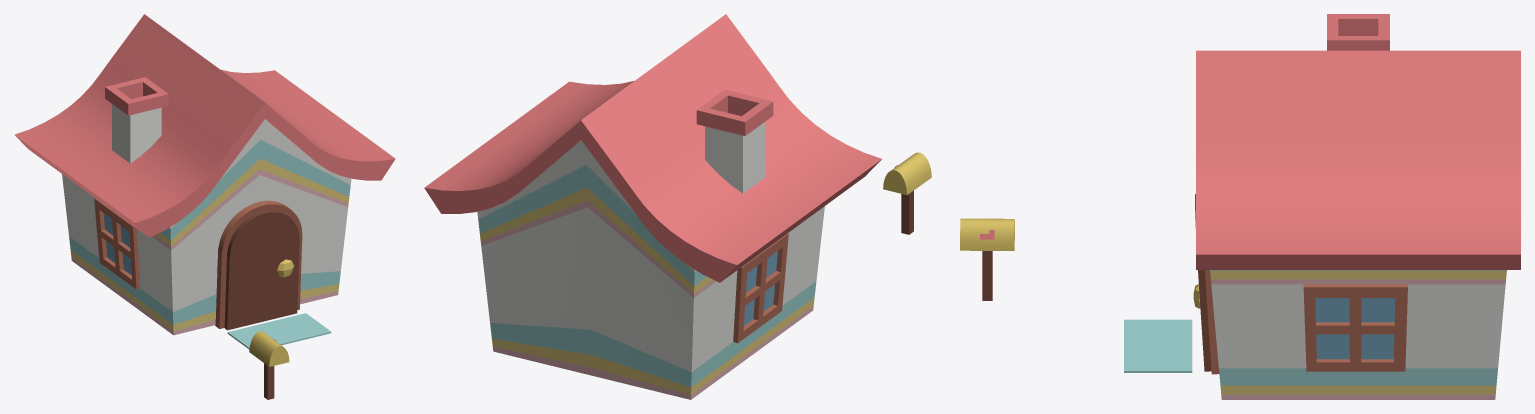
The model's file is MAILBOXHOUSE.fbx.
3 views of the same model, side by side, from view 1: azimuth 30°, elevation 25°; view 2: azimuth 150°, elevation 25°; view 3: azimuth 270°, elevation 25° (orthographic). The views are drawn at different scales.
Parts seen in each view (by area): view 1: house:pCube4, house:pCube5, house:polySurface3, house:pCube6, house:polySurface2, house:pCube7, house:polySurface4, house:polySurface5, house:pCylinder1, house:pCube8; view 2: house:pCube5, house:pCube4, house:pCube6, house:pCylinder1, house:pCube8; view 3: house:pCube4, house:pCube5, house:pCube7, house:pCube6, house:pCylinder1, house:polySurface3, house:polySurface5, house:pCube8.
Part boxes in pixels (x1=…): house:pCube4: x1=14, y1=14, x2=395, y2=237; house:pCube5: x1=62, y1=119, x2=351, y2=335; house:polySurface3: x1=224, y1=238, x2=299, y2=330; house:pCube6: x1=105, y1=77, x2=168, y2=163; house:polySurface2: x1=227, y1=210, x2=299, y2=255; house:pCube7: x1=227, y1=313, x2=331, y2=349; house:polySurface4: x1=218, y1=200, x2=301, y2=252; house:polySurface5: x1=215, y1=233, x2=302, y2=328; house:pCylinder1: x1=249, y1=331, x2=289, y2=366; house:pCube8: x1=264, y1=363, x2=274, y2=399; house:pCube5: x1=477, y1=140, x2=824, y2=399; house:pCube4: x1=424, y1=14, x2=881, y2=282; house:pCube6: x1=696, y1=90, x2=773, y2=193; house:pCylinder1: x1=883, y1=152, x2=931, y2=194; house:pCube8: x1=901, y1=190, x2=913, y2=234; house:pCube4: x1=1196, y1=50, x2=1520, y2=269; house:pCube5: x1=1210, y1=270, x2=1506, y2=399; house:pCube7: x1=1124, y1=319, x2=1192, y2=372; house:pCube6: x1=1327, y1=14, x2=1389, y2=50; house:pCylinder1: x1=960, y1=218, x2=1014, y2=250; house:polySurface3: x1=1198, y1=270, x2=1211, y2=371; house:polySurface5: x1=1205, y1=270, x2=1219, y2=374; house:pCube8: x1=982, y1=251, x2=992, y2=300.
Bounding box in the file's own units: 12.63 × 10.26 × 17.5.
